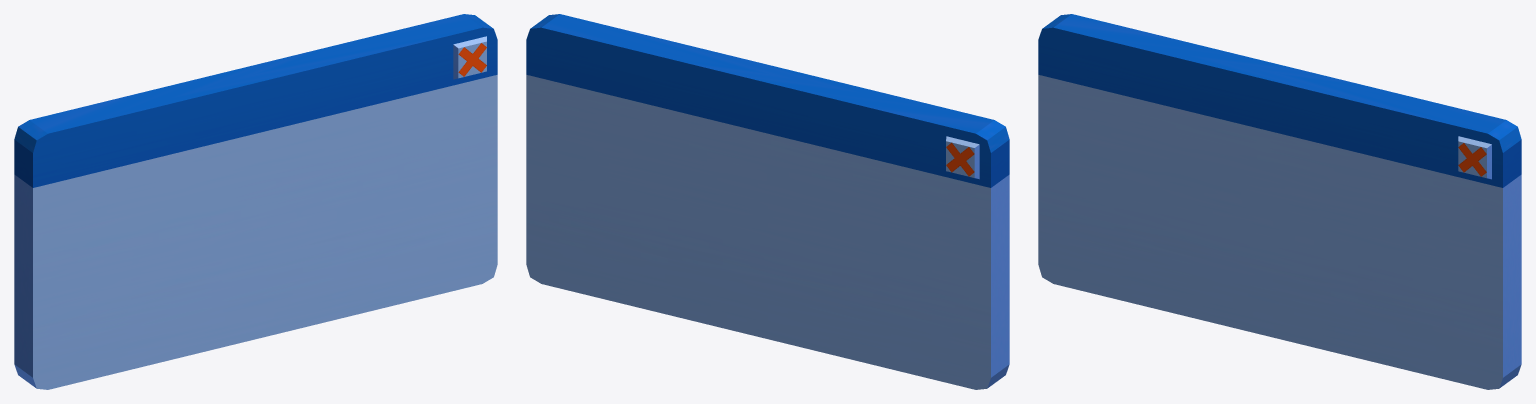
Rendered from SM_WallFaces.fbx.
3 renders of one model, left to right at view 1: azimuth 30°, elevation 25°; view 2: azimuth 150°, elevation 25°; view 3: azimuth 330°, elevation 25°, orthographic.
Parts seen in each view (by area): view 1: SM_ErrorWall001, SM_ErrorWallStick001; view 2: SM_ErrorWall001, SM_ErrorWallStick001; view 3: SM_ErrorWall001, SM_ErrorWallStick001.
Part boxes in pixels (x1,y1,x2,y2): SM_ErrorWall001: (14,14,497,389); SM_ErrorWallStick001: (458,43,486,76); SM_ErrorWall001: (526,14,1009,389); SM_ErrorWallStick001: (946,142,974,176); SM_ErrorWall001: (1038,14,1521,389); SM_ErrorWallStick001: (1458,143,1486,176).
Bounding box in the file's own units: 83.64 × 44.08 × 7.51.
2 materials, 2 textured.
